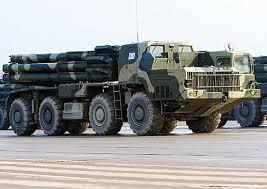MIL_SAM_TEL: (0, 38, 262, 136)
